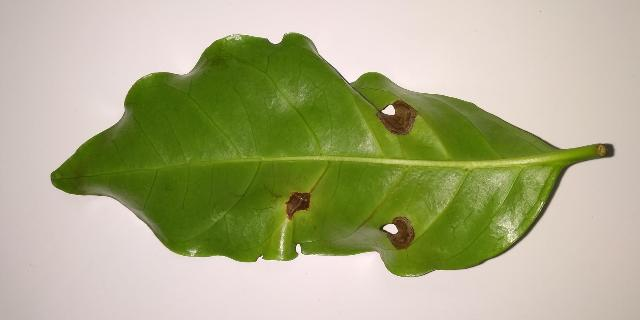rust: (378, 100, 417, 134), (381, 217, 414, 248), (287, 192, 310, 219)
